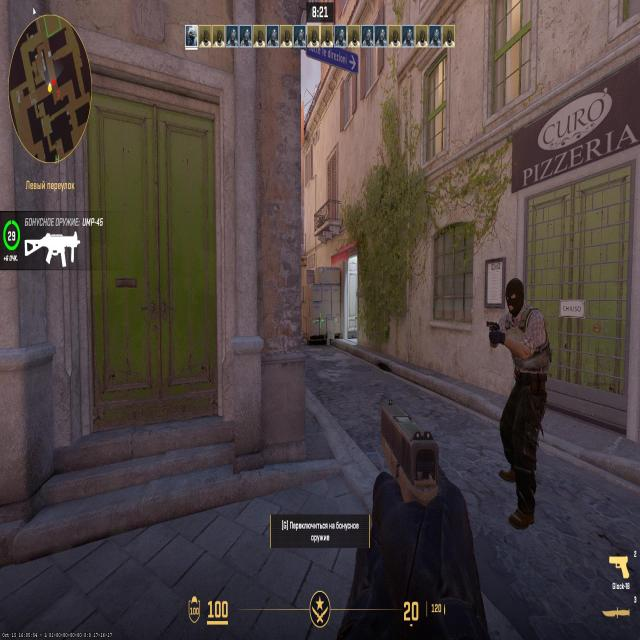T: (506, 277, 532, 488)
T_heat: (509, 290, 522, 320)
